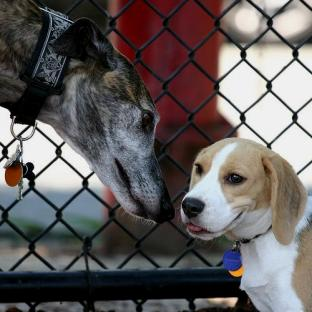Animal: (39, 18, 175, 223), (181, 138, 311, 311), (0, 0, 42, 105)
